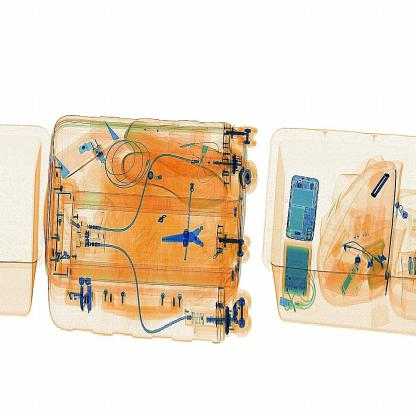gun: (152, 206, 229, 265)
